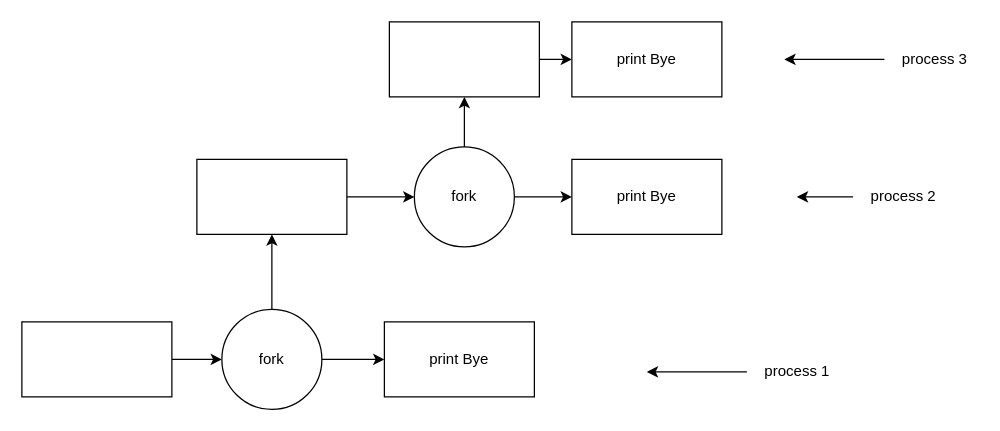
This 1000x431 diagram has some shape labels left out. The centre of each missing label's shape, as x and y in pixels:
"print L0" goes at point 96,359.
"print L1" goes at point 271,196.
"print L2" goes at point 463,59.
